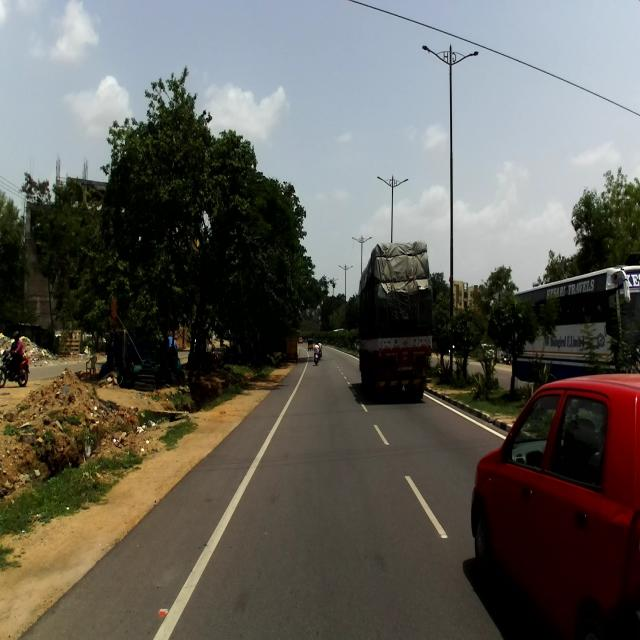bus: (512, 250, 640, 389)
car: (470, 373, 640, 639)
truck: (354, 241, 433, 398)
